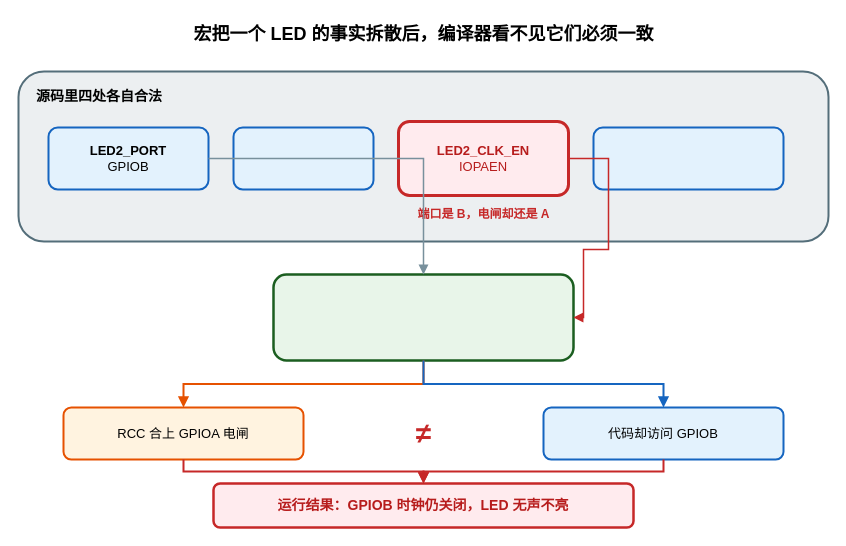
Some shapes in this 846 by 546 pixel diagram are drawn without their labels. The shapes that lost their labels are listed below. From the top down, each one's centre as x and y in pixels, then its label:
[303,158]: LED2_PIN 12
[688,158]: 配置偏移 (12-8)×4 = 16
[423,317]: 编译器 每个宏展开后语法、类型都正确 ✓ 编译通过 ✓ 零警告
